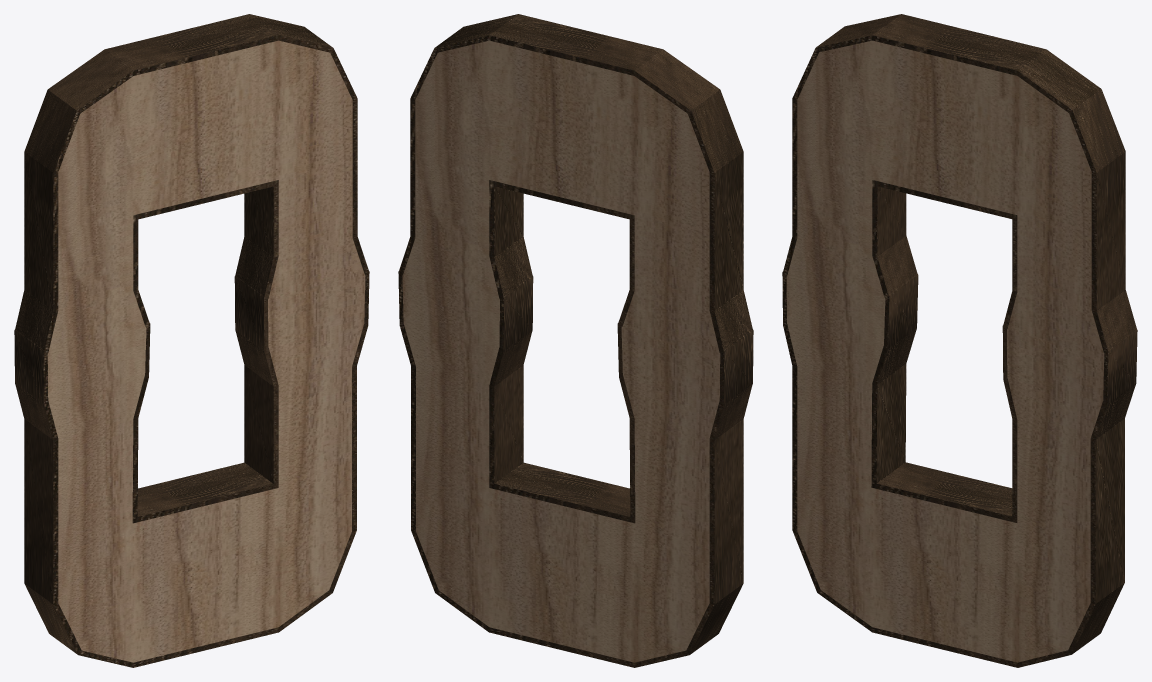
The picture shows the model from 3 angles, left to right: view 1: azimuth 30°, elevation 25°; view 2: azimuth 150°, elevation 25°; view 3: azimuth 330°, elevation 25°; orthographic projection.
Parts seen in each view (by area): view 1: O, O_outline; view 2: O, O_outline; view 3: O, O_outline.
Boxes of the visible parts, bbox=[...] form: O: bbox=[47, 40, 365, 662]; O_outline: bbox=[14, 14, 369, 667]; O: bbox=[402, 40, 720, 662]; O_outline: bbox=[398, 14, 753, 667]; O: bbox=[786, 40, 1104, 662]; O_outline: bbox=[782, 14, 1137, 667].
Size of the model in its own units: 64.63 by 113 by 10.
2 materials, 2 textured.
